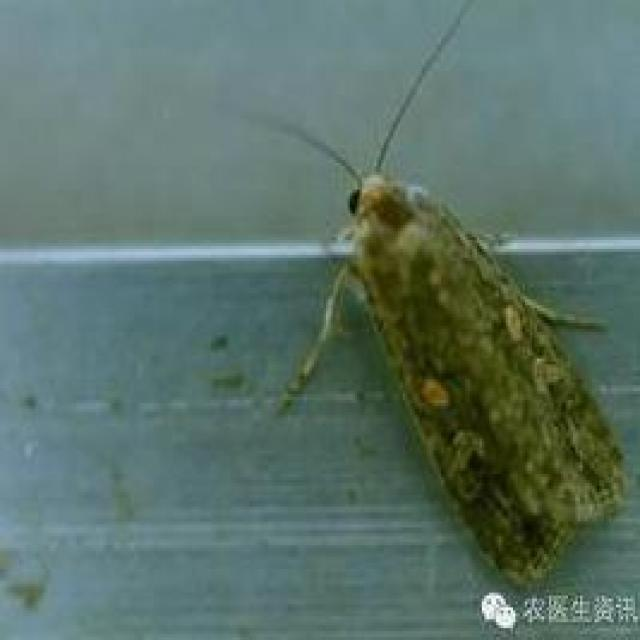BeetArmyWorm-Adult-: (306, 127, 634, 593)
